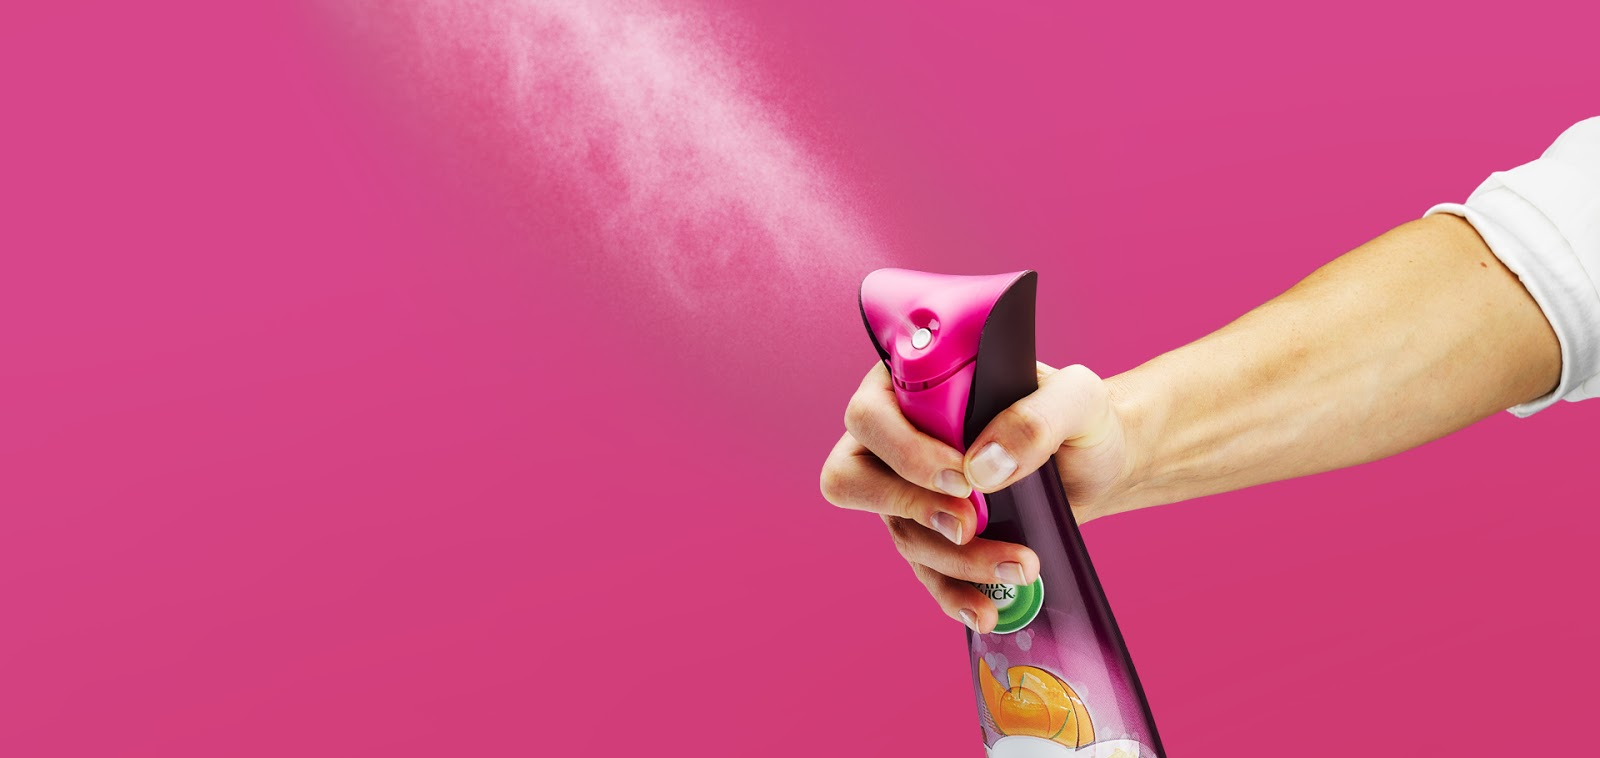Aerosol_cans: (852, 252, 1179, 758)
